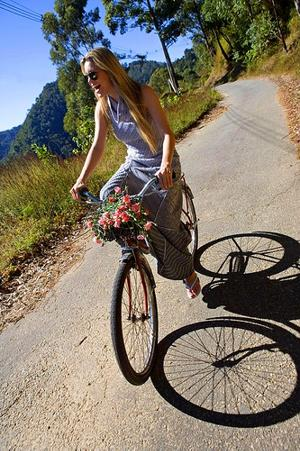person: (71, 47, 201, 304)
